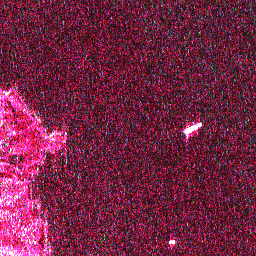ship: (181, 119, 203, 136)
